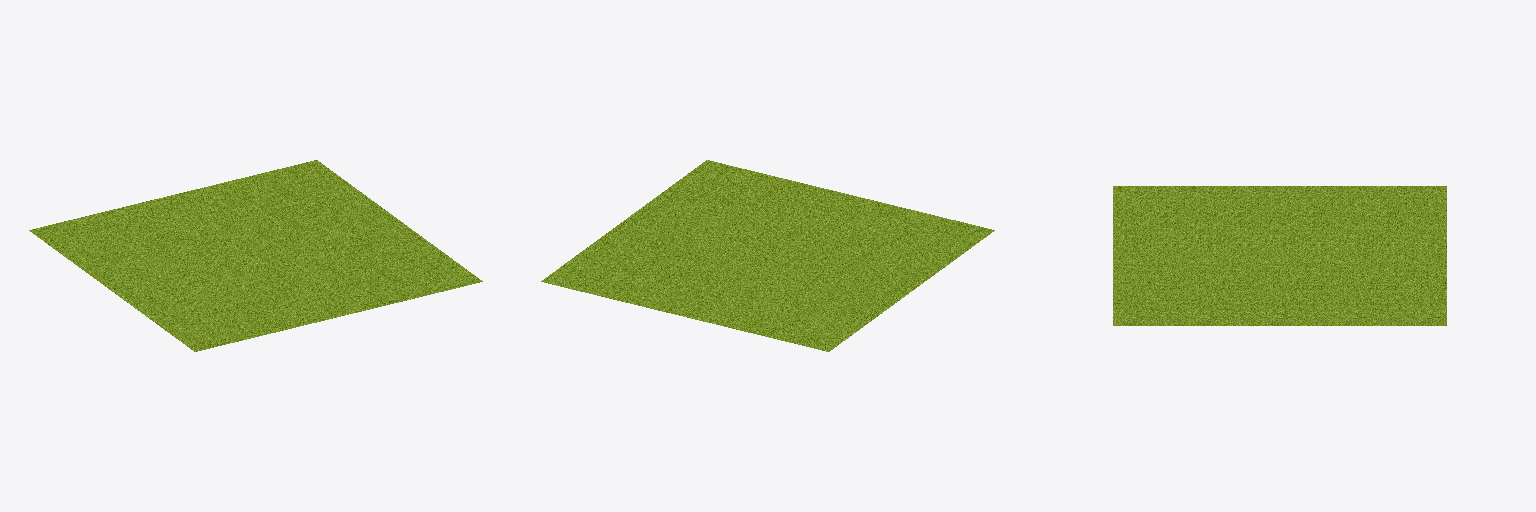
The picture shows the model from 3 angles: view 1: azimuth 30°, elevation 25°; view 2: azimuth 150°, elevation 25°; view 3: azimuth 270°, elevation 25°; orthographic projection.
Parts seen in each view (by area): view 1: Cube.005; view 2: Cube.005; view 3: Cube.005.
Part boxes in pixels (left/top/right/bottom): Cube.005: left=29, top=160, right=482, bottom=351; Cube.005: left=541, top=160, right=994, bottom=351; Cube.005: left=1113, top=186, right=1446, bottom=325.
Bounding box in the file's own units: 103 × 0 × 103.
Materials: 1 (1 with a texture image).